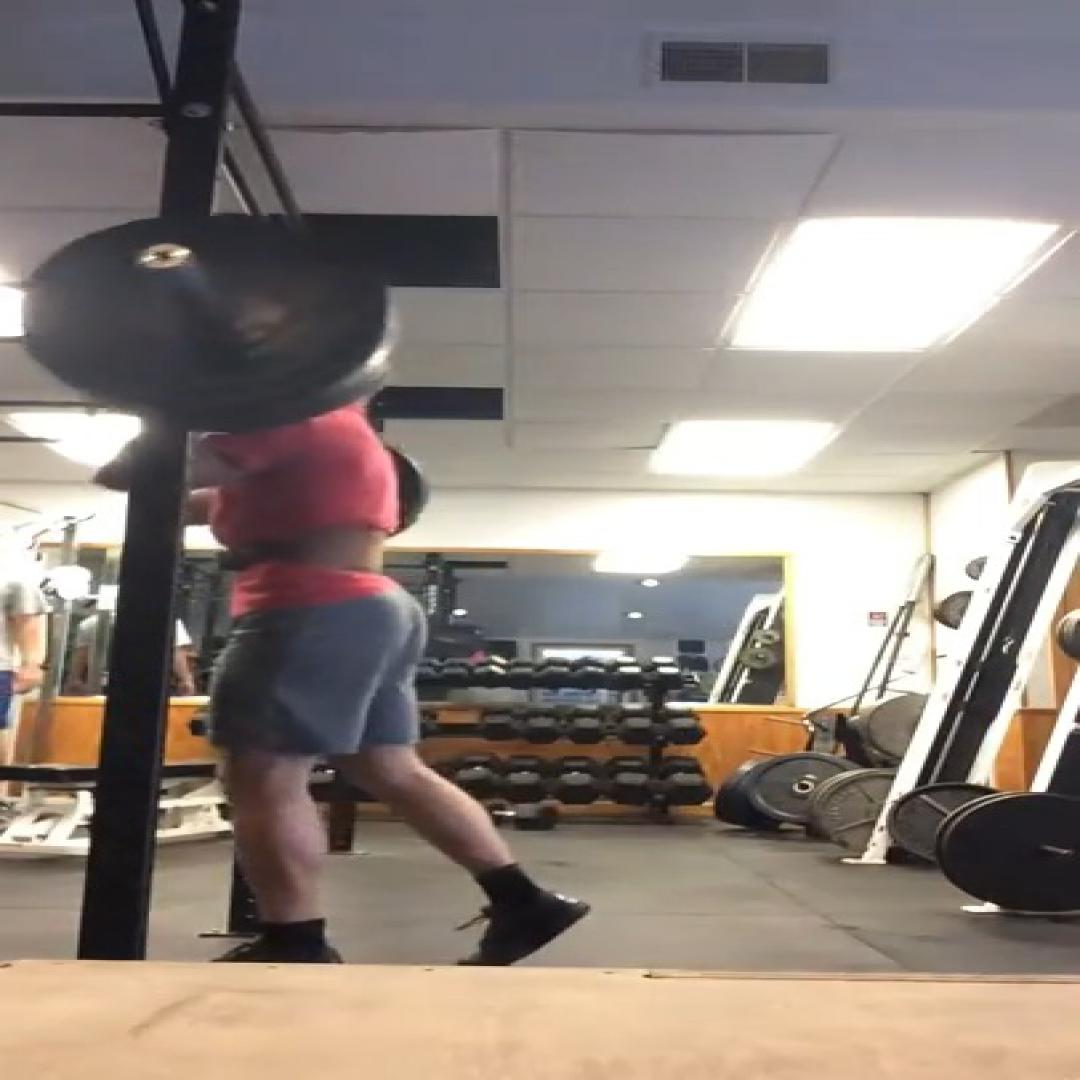Bar: (136, 243, 194, 270)
Barbell: (24, 214, 391, 408)
